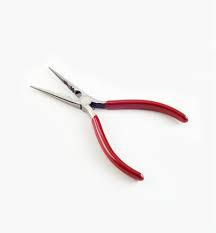pliers: (29, 65, 188, 181)
